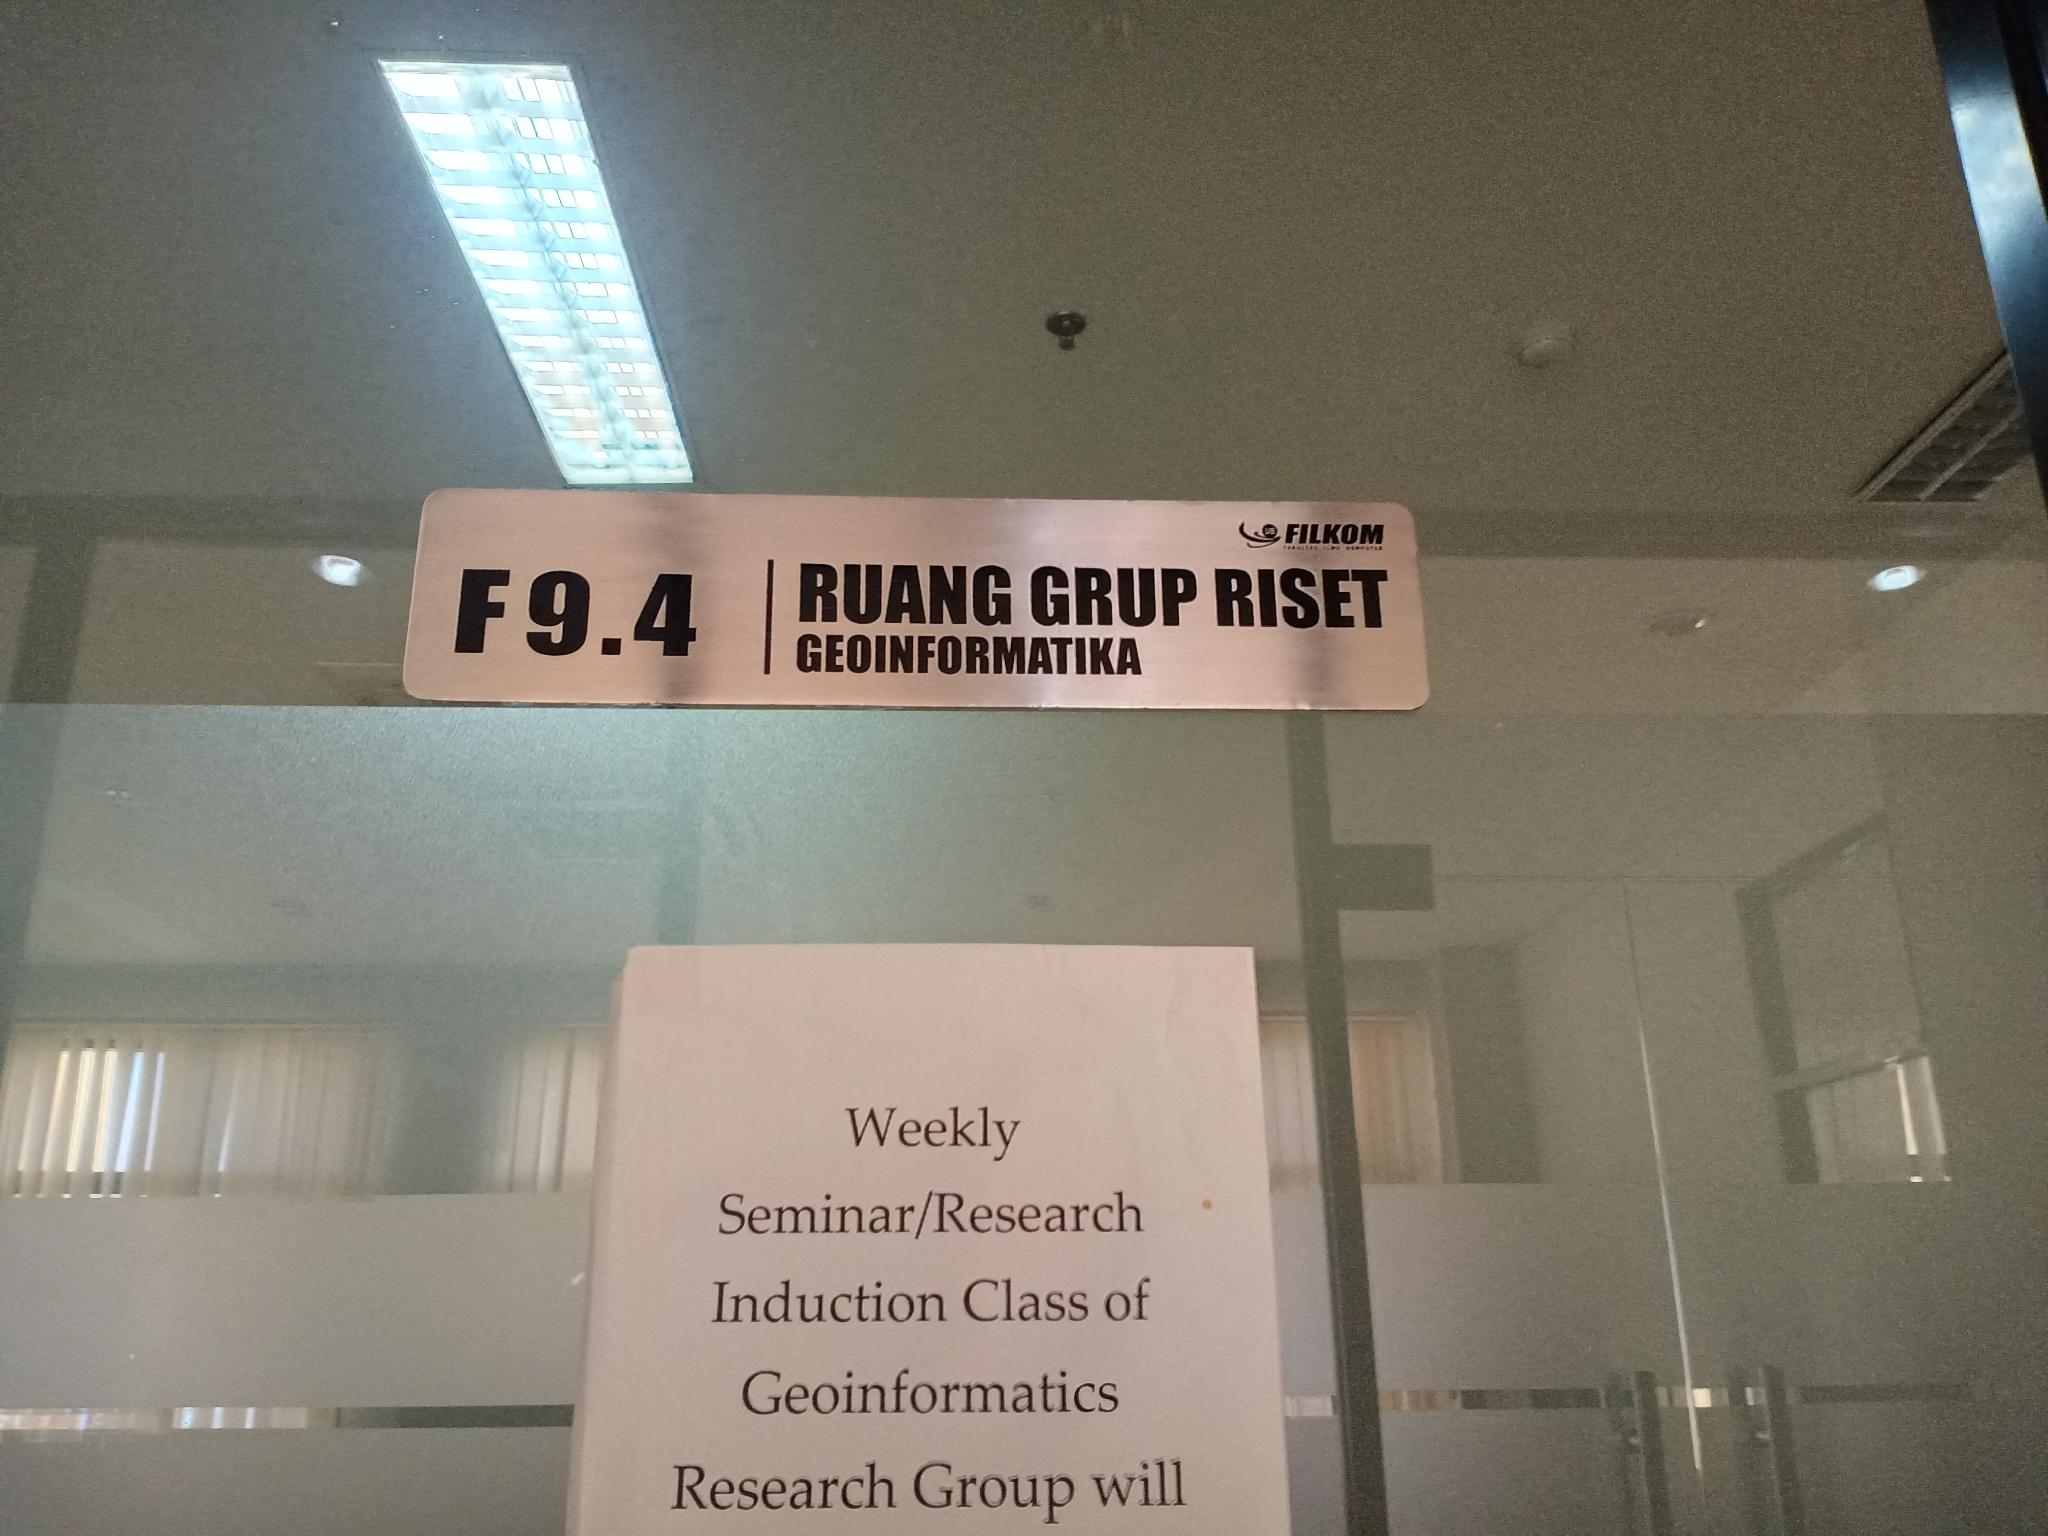plate: (403, 489, 1432, 705)
